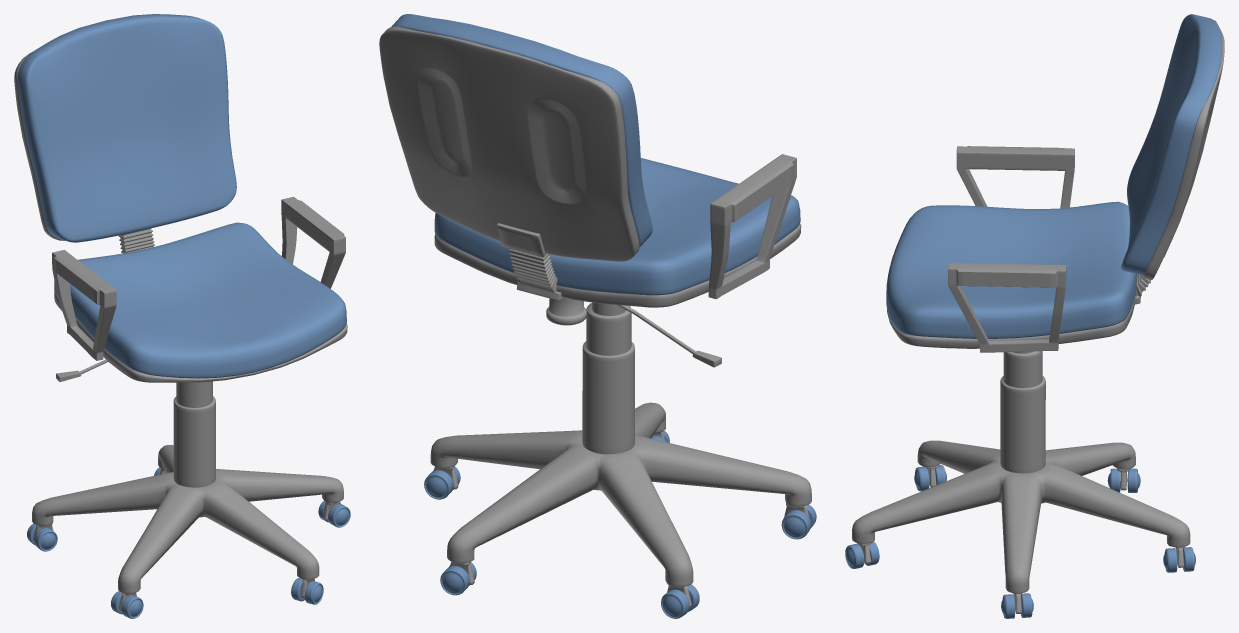
File: Stuhl.fbx
3 renders of one model, left to right at view 1: azimuth 30°, elevation 25°; view 2: azimuth 150°, elevation 25°; view 3: azimuth 270°, elevation 25°, orthographic. The views are drawn at different scales.
Visible parts, largest first — view 1: Office_chair:Office_chair; view 2: Office_chair:Office_chair; view 3: Office_chair:Office_chair.
Part boxes in pixels (box(x1,y1,x2,y2)): Office_chair:Office_chair: box(14, 14, 350, 618); Office_chair:Office_chair: box(379, 14, 816, 618); Office_chair:Office_chair: box(845, 14, 1224, 618).
Size of the model in its own units: 1.91 by 3.16 by 2.16.
